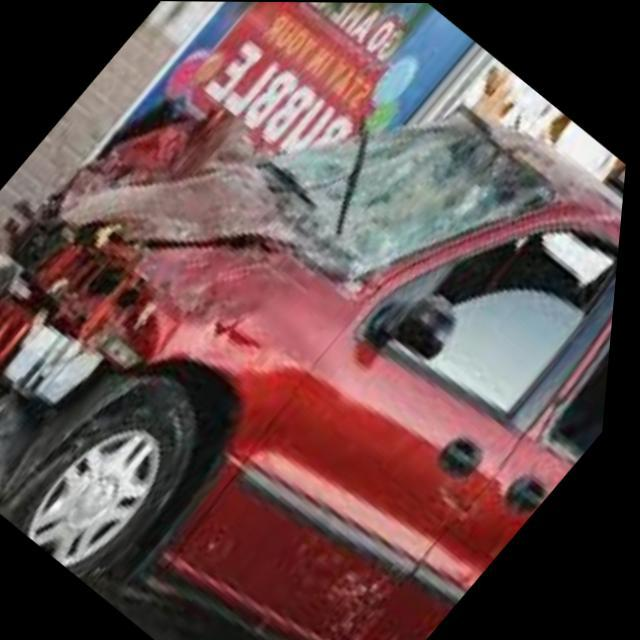crash: (0, 112, 361, 516)
glass shatter: (277, 116, 557, 279)
